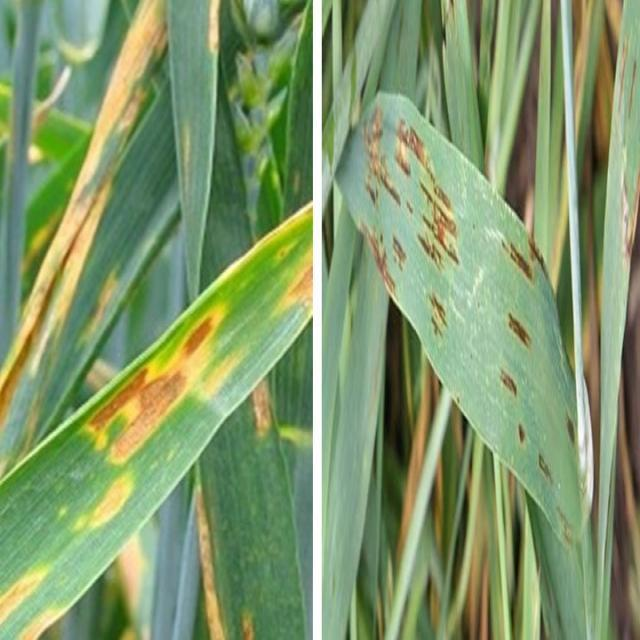Septoria: (0, 204, 310, 638), (1, 0, 178, 475)
